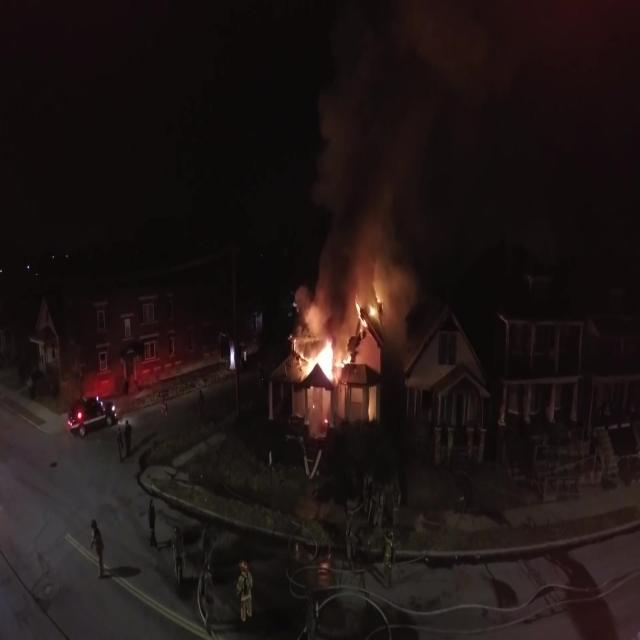Fire: (271, 216, 420, 429)
Smoke: (302, 0, 588, 208)
